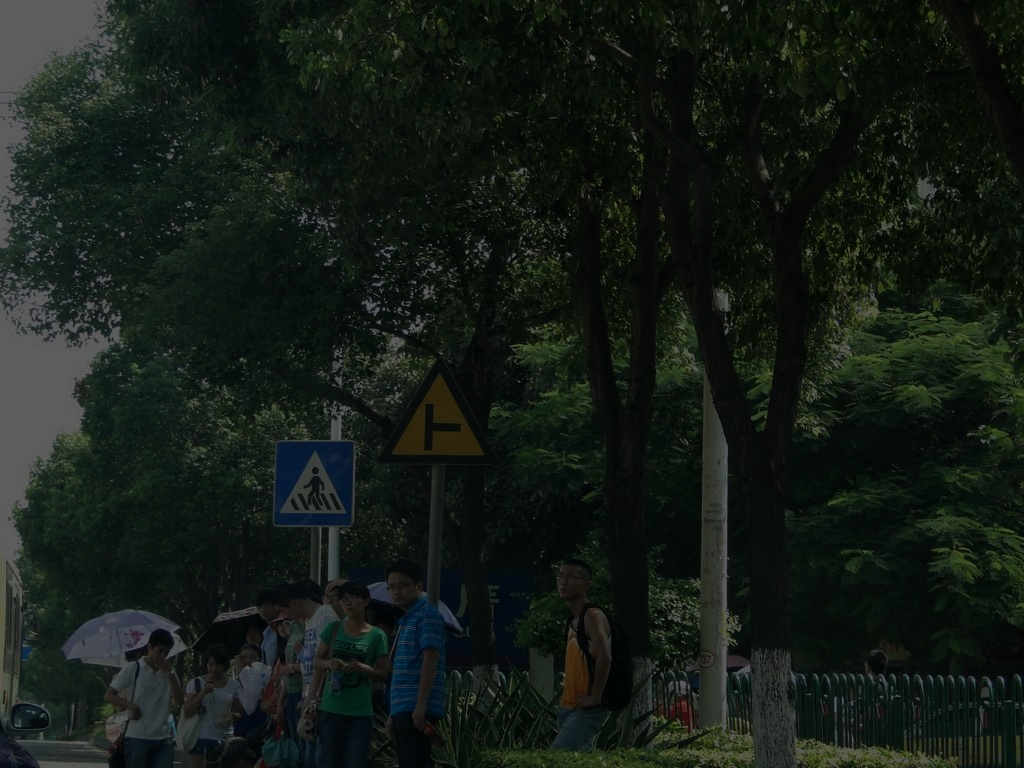Informative Signs: (273, 440, 355, 529)
Warning Signs: (377, 354, 499, 470)
